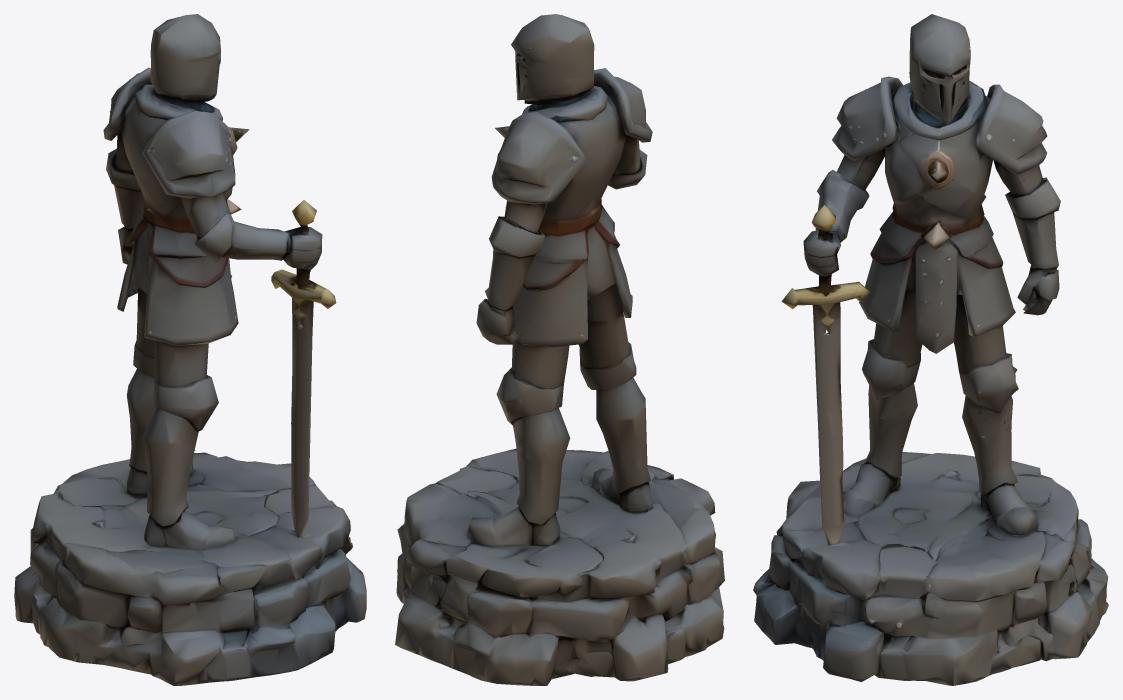
File: statue_knight.glb
3 renders of one model, left to right at view 1: azimuth 30°, elevation 25°; view 2: azimuth 150°, elevation 25°; view 3: azimuth 270°, elevation 25°, orthographic.
Parts seen in each view (by area): view 1: tripo_node_329a8d84-8e78-404c-a276-06aebf1b4be3; view 2: tripo_node_329a8d84-8e78-404c-a276-06aebf1b4be3; view 3: tripo_node_329a8d84-8e78-404c-a276-06aebf1b4be3.
Boxes of the visible parts, box(x1,y1,x2,y2) form: tripo_node_329a8d84-8e78-404c-a276-06aebf1b4be3: box(14, 14, 366, 685); tripo_node_329a8d84-8e78-404c-a276-06aebf1b4be3: box(395, 14, 724, 685); tripo_node_329a8d84-8e78-404c-a276-06aebf1b4be3: box(753, 14, 1108, 685).
Size of the model in its own units: 0.5231 by 1 by 0.5409.
Materials: 1 (1 with a texture image).
